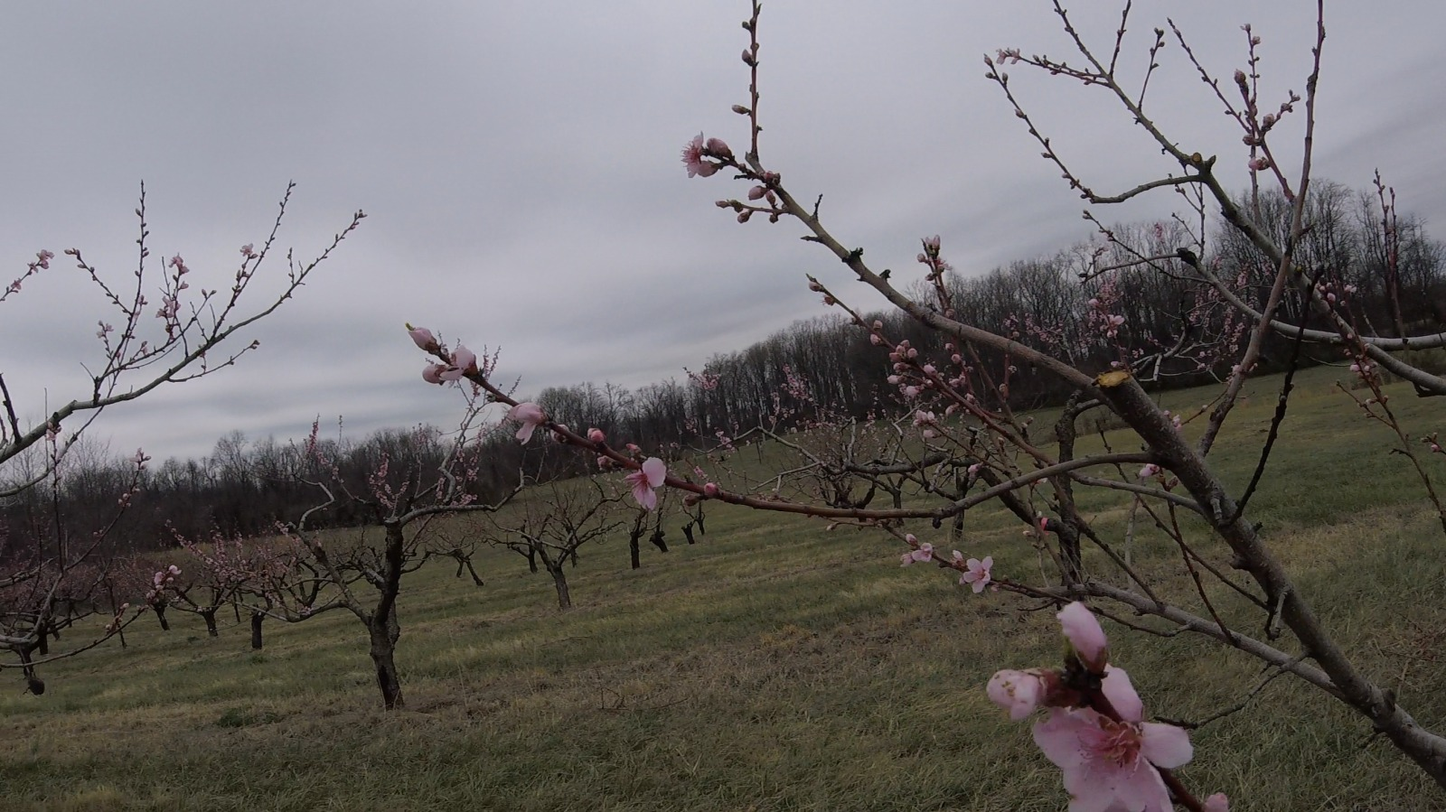flower: (1034, 663, 1195, 812), (1056, 602, 1109, 661), (988, 668, 1042, 720), (422, 339, 477, 388), (681, 131, 730, 178), (625, 457, 667, 510), (502, 400, 549, 445), (955, 556, 993, 593), (898, 543, 935, 567), (407, 323, 437, 350), (31, 246, 55, 274), (890, 341, 922, 362), (996, 43, 1023, 65), (1205, 793, 1230, 812), (169, 253, 190, 275), (918, 426, 943, 443), (695, 483, 722, 498), (914, 410, 938, 426), (900, 385, 926, 399), (924, 364, 944, 382), (748, 186, 767, 201), (1140, 464, 1160, 477), (887, 373, 906, 384), (240, 244, 254, 257), (870, 334, 881, 345), (503, 407, 508, 411)
